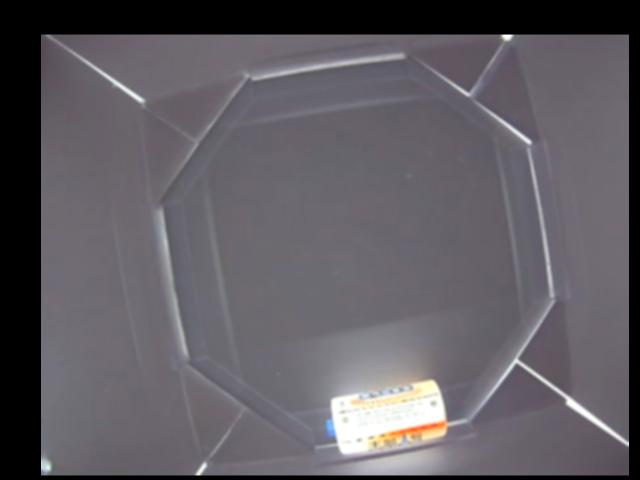Battery: (327, 381, 447, 456)
